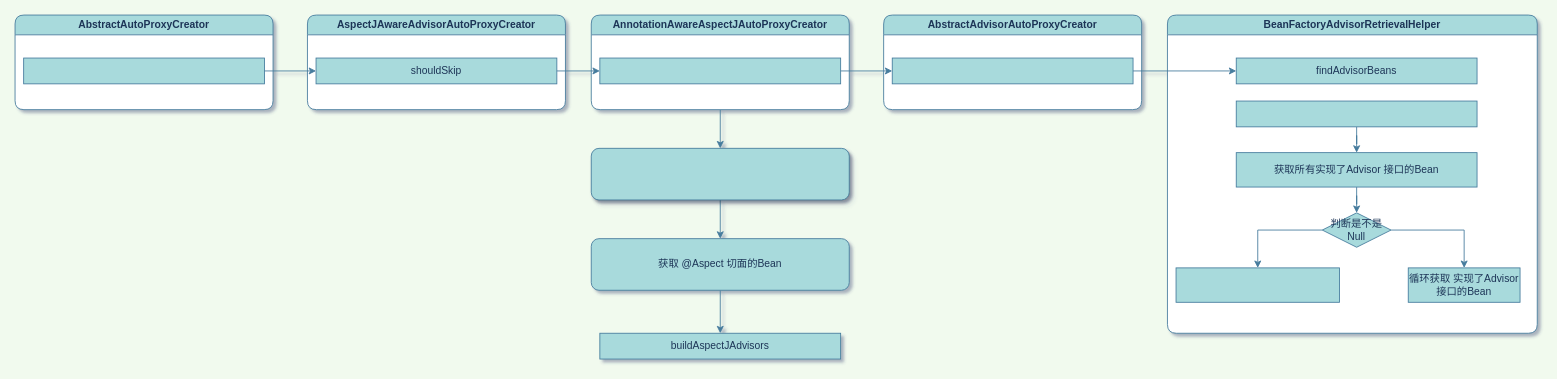
Some shapes in this 1557 by 379 pixel diagram are drawn without their labels. The centre of each missing label's shape, as x and y in pixels:
"cachedAdvisorBeanNames" goes at (1356,113).
"findCandidateAdvisors" goes at (720,70).
"postProcessBeforeInstantiation" goes at (143,70).
"super.findCandidateAdvisors()" goes at (1012,70).
"如果 没有获取到直接返回 空数组" goes at (1257,284).
"获取实现了 Advisor（通知） 接口的Bean" goes at (720,175).
